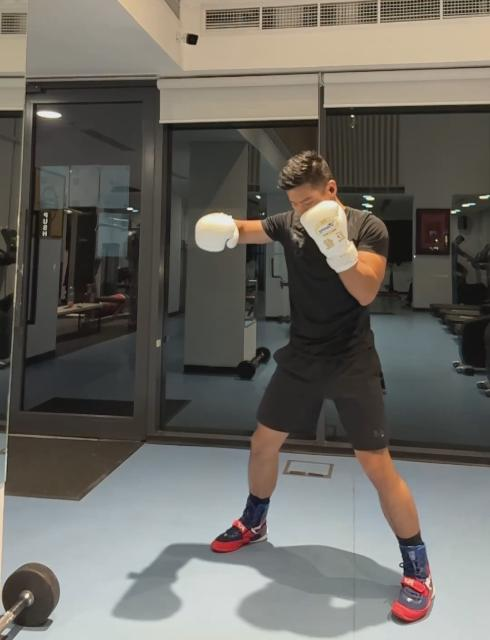punch: (193, 149, 437, 627)
